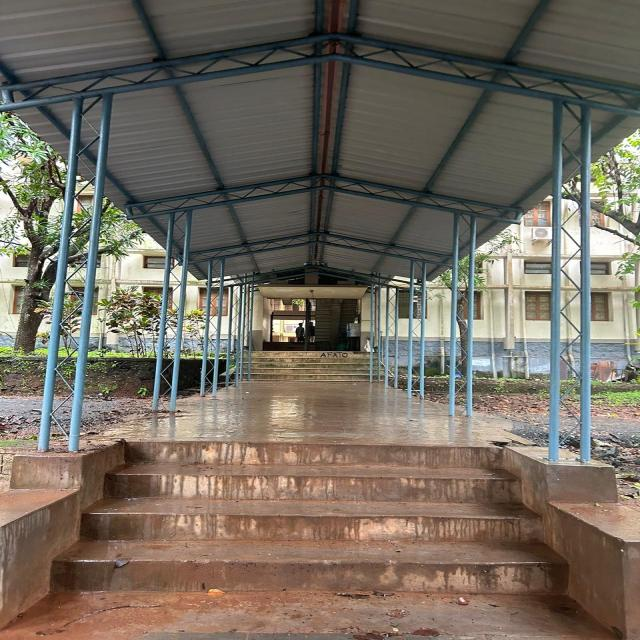pillar ahead at: (530, 92, 608, 466), (38, 97, 112, 455), (143, 216, 197, 410), (440, 207, 488, 424)
stairs ahead at: (64, 442, 571, 592)
